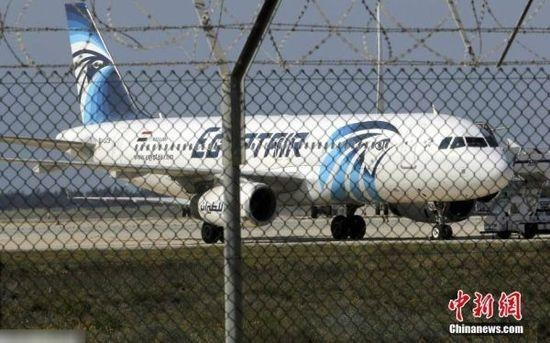airplane: (19, 82, 520, 230)
